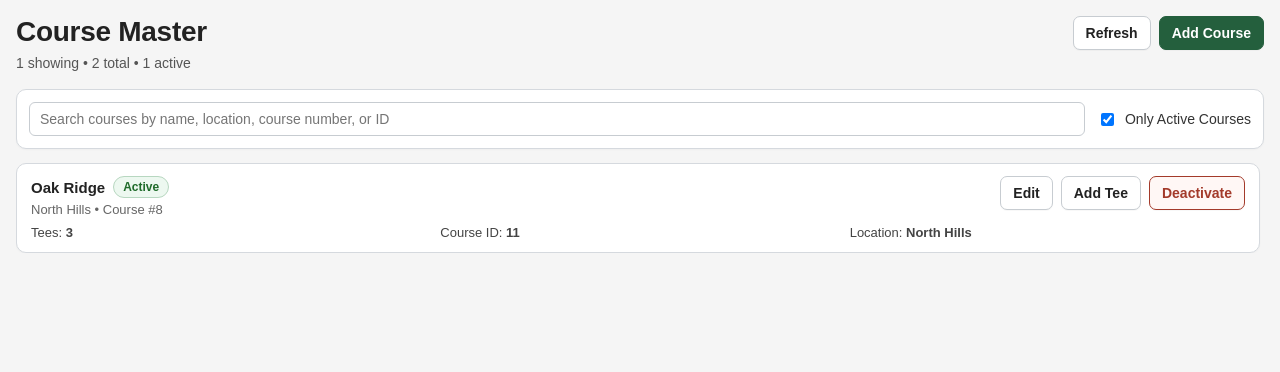
Course master list characterization (before extraction) › searches course number and internal course ID
The width and height of the screenshot is (1280, 372).
Check: the text "Oak Ridge" is shown, box 31,179 -> 105,196
Click the checkbox labelled "Only Active Courses" at [1107, 119], box 1101,113 -> 1114,126
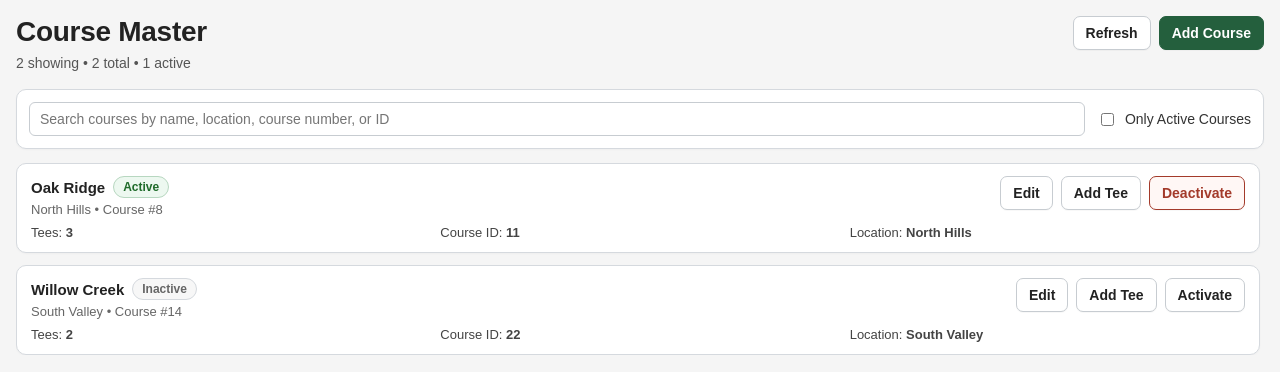
Type "14" into the field with placeholder "Search courses by name, location, course number, or ID" at [557, 119], box 29,102 -> 1085,136
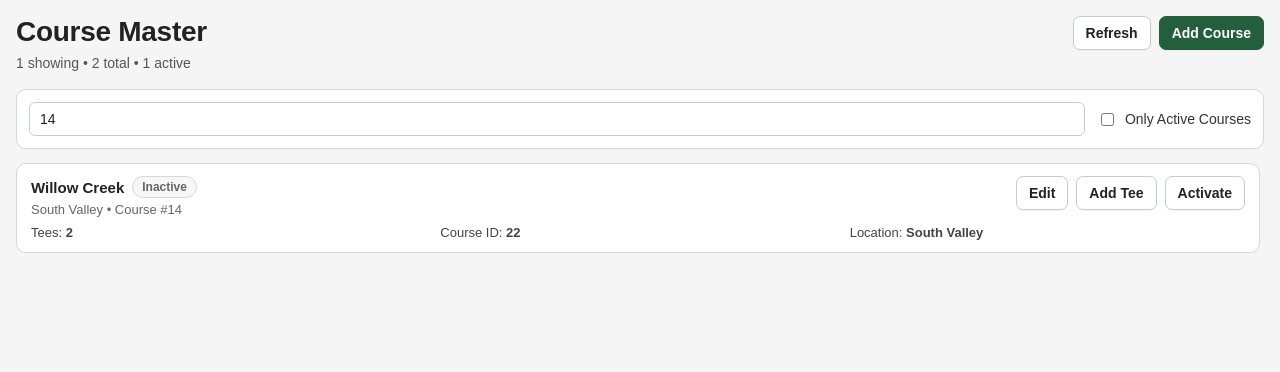
Check: the text "Willow Creek" is shown, box 31,179 -> 124,196
Check: the text "Oak Ridge" is gone
Replace the text in the field with placeholder "Search courses by name, location, course number, or ID" with "11" at [557, 119], box 29,102 -> 1085,136
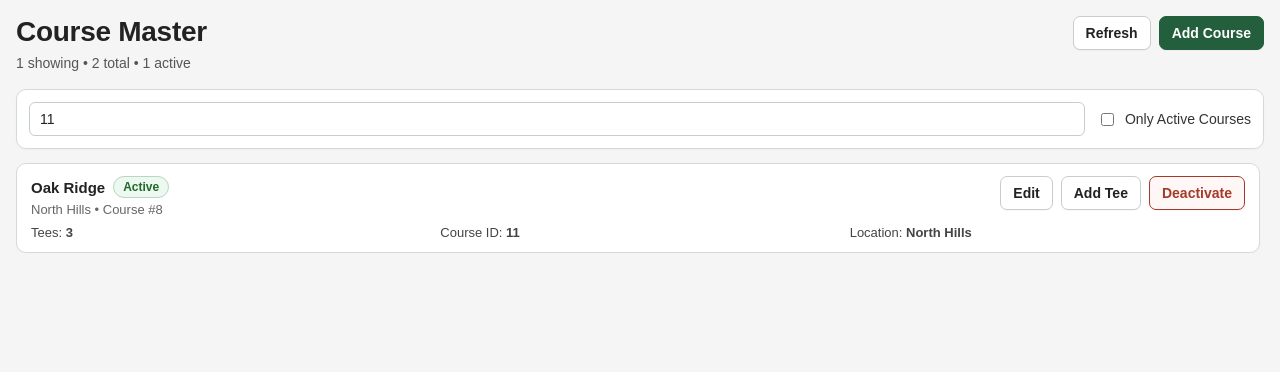
Check: the text "Oak Ridge" is shown, box 31,179 -> 105,196
Check: the text "Willow Creek" is gone
